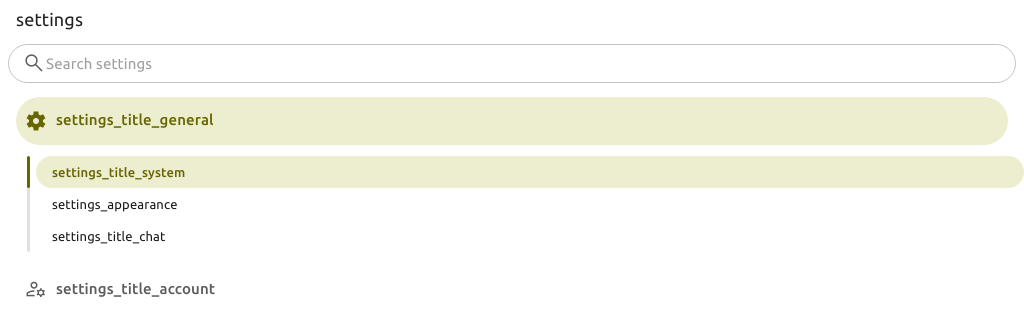
Test: SettingsNavigation › finds settings from contextual search terms
In the field labelled "Search settings": (531,63) [46,44,1016,83], type "moderator"
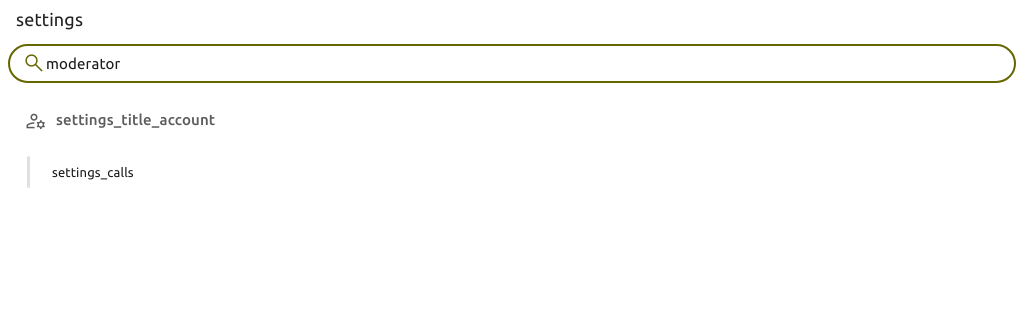
Check: the link "settings_title_system" is gone
